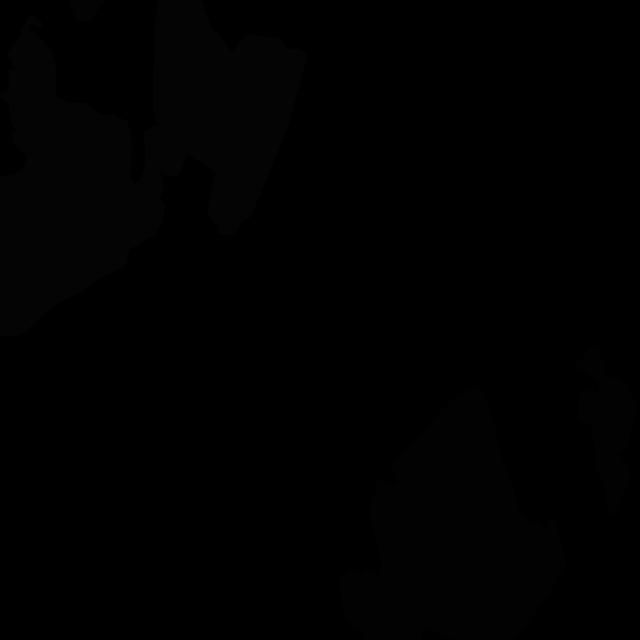cardboard: (340, 387, 566, 640), (574, 347, 636, 518)
metal: (68, 0, 105, 22)
soft_plastic: (0, 14, 165, 337), (146, 0, 308, 236)
